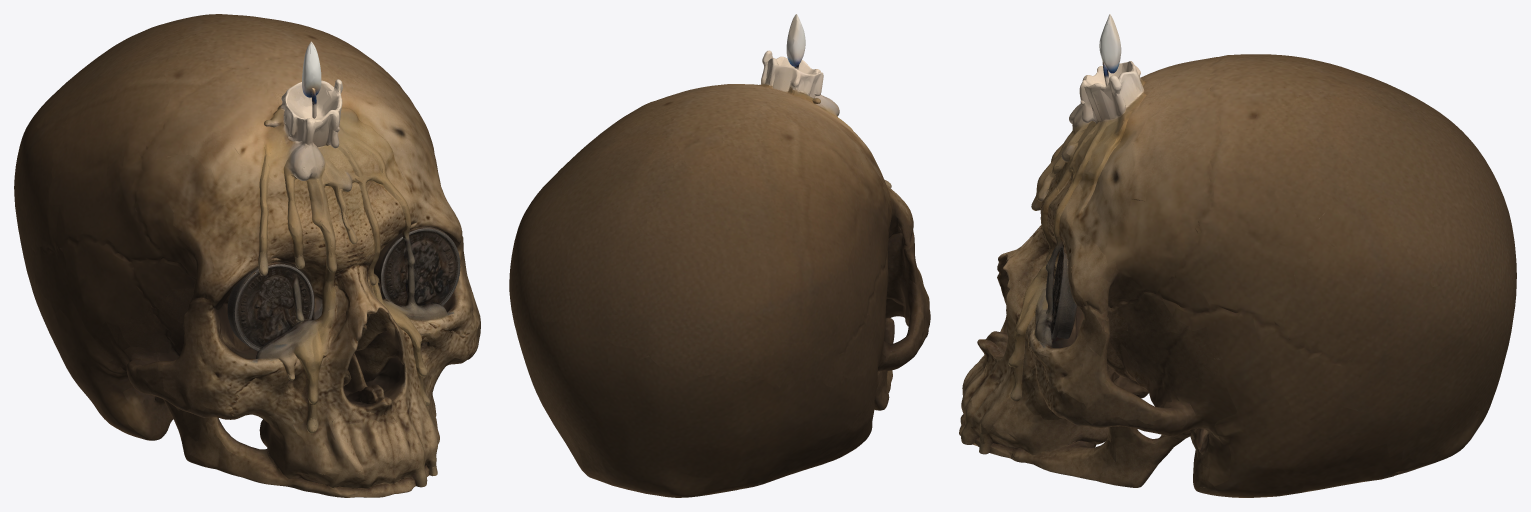
File: skull-candle.glb
3 renders of one model, left to right at view 1: azimuth 30°, elevation 25°; view 2: azimuth 150°, elevation 25°; view 3: azimuth 270°, elevation 25°, orthographic. The views are drawn at different scales.
Visible parts, largest first — view 1: Mesh_0; view 2: Mesh_0; view 3: Mesh_0.
Boxes of the visible parts, box(x1,y1,x2,y2) form: Mesh_0: box(14, 14, 480, 497); Mesh_0: box(509, 14, 930, 497); Mesh_0: box(959, 14, 1516, 497).
Bounding box in the file's own units: 1.42 × 1.54 × 1.9.
Materials: 1 (1 with a texture image).
